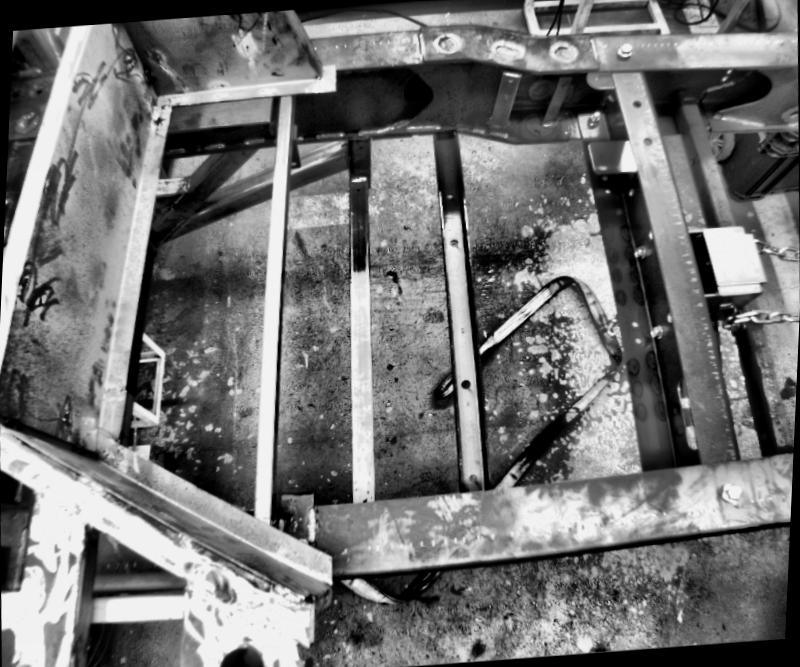bolt: (712, 477, 746, 504), (611, 36, 634, 58), (586, 108, 602, 126), (648, 322, 665, 338), (632, 244, 647, 259)
bracket: (274, 478, 330, 534), (486, 65, 522, 132), (533, 70, 573, 130), (584, 134, 640, 174), (283, 121, 307, 170)
hole: (218, 640, 267, 666), (458, 375, 474, 388), (466, 470, 478, 482), (632, 98, 642, 108), (642, 134, 652, 144), (624, 185, 634, 195), (630, 318, 640, 327), (445, 190, 453, 199), (449, 238, 458, 246), (634, 335, 642, 344), (602, 187, 610, 196), (354, 184, 362, 191), (290, 160, 297, 165), (599, 153, 605, 158), (600, 174, 606, 179), (340, 140, 346, 144), (356, 143, 360, 148)
